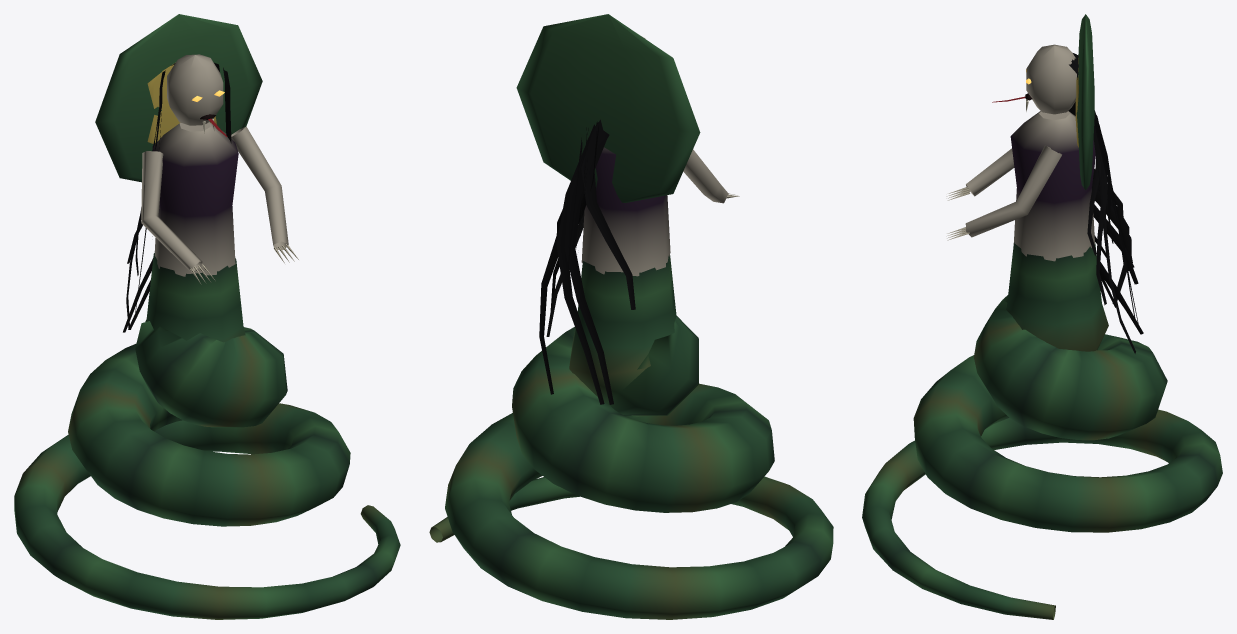
Rendered from siluman_ular.glb.
The picture shows the model from 3 angles, left to right: view 1: azimuth 30°, elevation 25°; view 2: azimuth 150°, elevation 25°; view 3: azimuth 270°, elevation 25°; orthographic projection. The views are drawn at different scales.
Visible parts, largest first — view 1: siluman_ular; view 2: siluman_ular; view 3: siluman_ular.
Boxes of the visible parts, box(x1,y1,x2,y2) form: siluman_ular: box(14, 14, 400, 619); siluman_ular: box(429, 14, 833, 619); siluman_ular: box(862, 14, 1222, 619).
Size of the model in its own units: 1.22 by 1.83 by 1.15.
